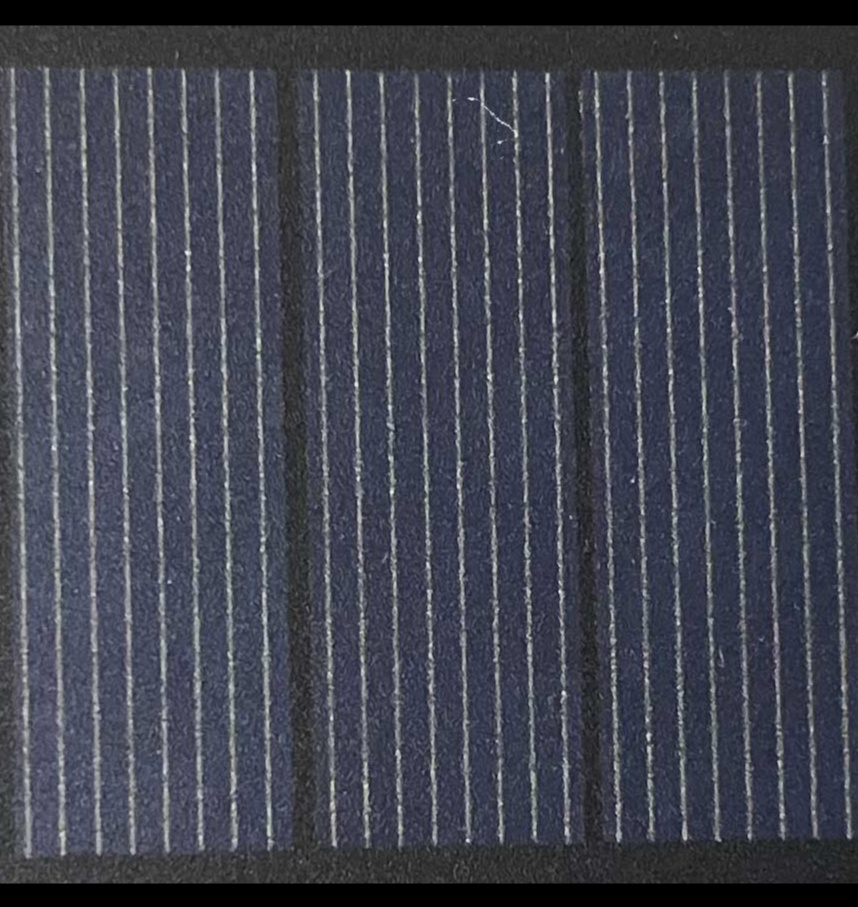Crack: (461, 90, 520, 138)
